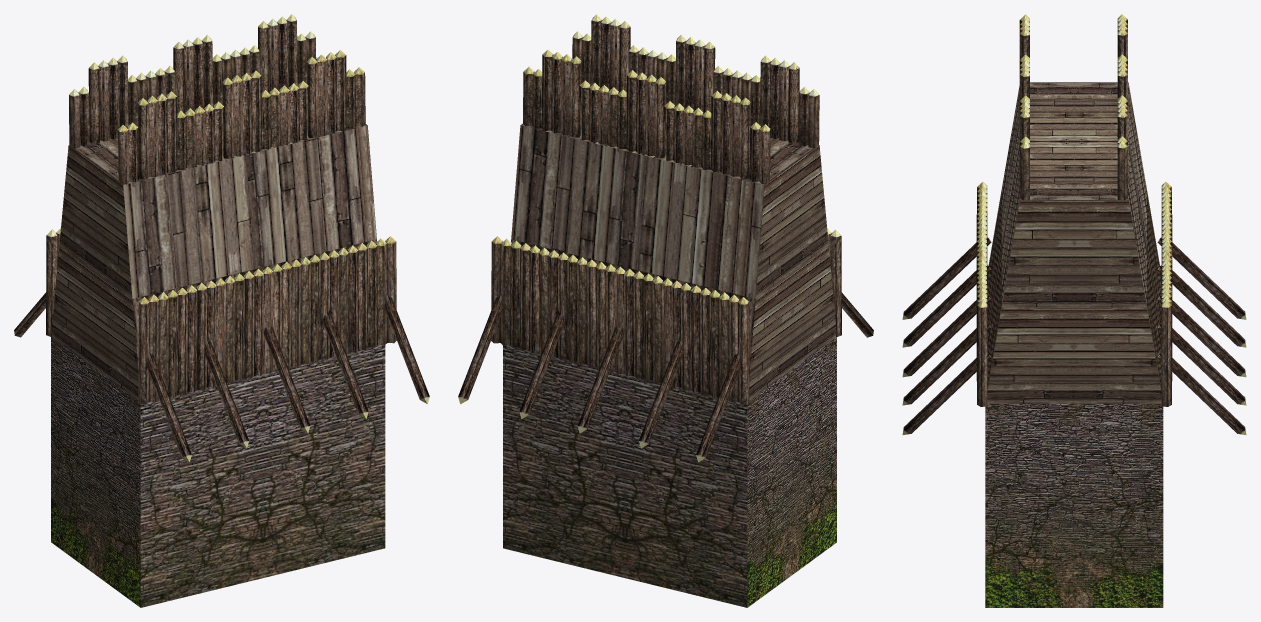
Rendered from wooden_wall_short.dae.
3 views of the same model, side by side, from view 1: azimuth 30°, elevation 25°; view 2: azimuth 150°, elevation 25°; view 3: azimuth 270°, elevation 25° (orthographic).
Visible parts, largest first — view 1: Wall_Short; view 2: Wall_Short; view 3: Wall_Short.
Part boxes in pixels (<box>): Wall_Short: <box>14,14,429,607</box>; Wall_Short: <box>458,14,873,607</box>; Wall_Short: <box>902,14,1246,607</box>.
Size of the model in its own units: 12.19 by 14.24 by 22.21.
